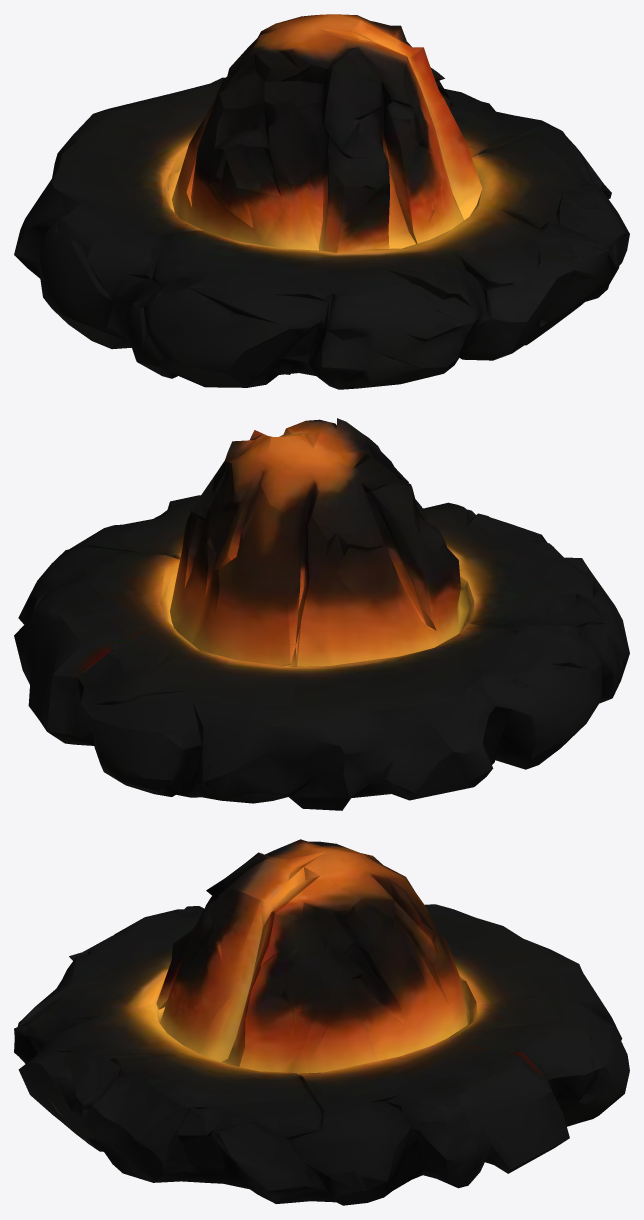
Rendered from m2LavaGeyserVent.glb.
The picture shows the model from 3 angles, top to bottom: view 1: azimuth 30°, elevation 25°; view 2: azimuth 150°, elevation 25°; view 3: azimuth 270°, elevation 25°; orthographic projection. The views are drawn at different scales.
Parts seen in each view (by area): view 1: model; view 2: model; view 3: model.
Boxes of the visible parts, x1=… form: model: x1=14, y1=14, x2=629, y2=389; model: x1=14, y1=418, x2=629, y2=810; model: x1=14, y1=839, x2=629, y2=1205.
Size of the model in its own units: 1.85 by 0.8406 by 1.9.
Materials: 1 (1 with a texture image).
